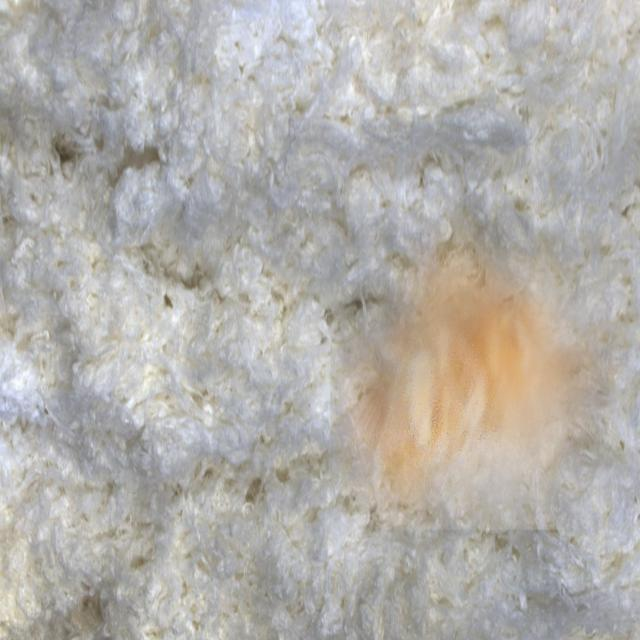dust: (330, 199, 628, 530)
